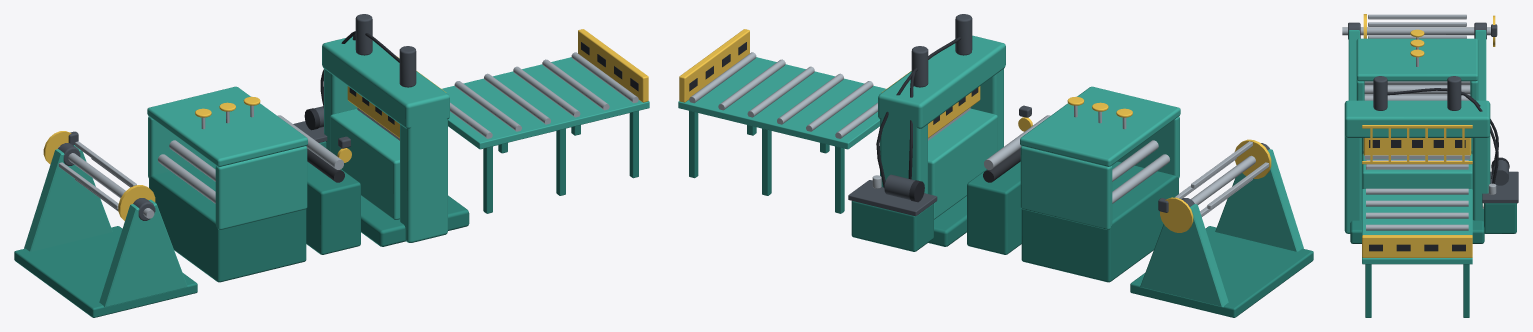
The model's file is guilhotina.glb.
3 renders of one model, left to right at view 1: azimuth 30°, elevation 25°; view 2: azimuth 150°, elevation 25°; view 3: azimuth 270°, elevation 25°, orthographic. The views are drawn at different scales.
Visible parts, largest first — view 1: base (×4), cavalete (×2), tampo, coluna (×2), lateral (×2), tampa, travessa, mesa_inferior, rolete (×5), pe (×3), batente, cilindro_hidraulico (×2) (+8 smaller); view 2: base (×4), cavalete (×2), tampa (×2), tampo, lateral (×2), travessa, mesa_inferior, coluna (×2), rolete (×5), tanque, pe (×3), batente (+11 smaller); view 3: tampa (×2), travessa, tampo, coluna (×2), rolete (×4), mesa_inferior, batente, regua (×3), rolo (×3), porta_lamina, cavalete (×2), eixo (+10 smaller).
Part boxes in pixels (<box>): base (×4): <box>14,161,469,317</box>; cavalete (×2): <box>24,145,187,307</box>; tampo: <box>442,57,649,149</box>; coluna (×2): <box>324,37,447,242</box>; lateral (×2): <box>148,116,307,229</box>; tampa: <box>147,86,307,166</box>; travessa: <box>322,36,449,128</box>; mesa_inferior: <box>330,108,399,219</box>; rolete (×5): <box>454,52,638,131</box>; pe (×3): <box>483,111,638,213</box>; batente: <box>578,29,648,102</box>; cilindro_hidraulico (×2): <box>355,14,416,87</box>; base (×4): <box>928,161,1313,317</box>; cavalete (×2): <box>1140,149,1303,307</box>; tampa (×2): <box>848,86,1180,216</box>; tampo: <box>678,57,885,149</box>; lateral (×2): <box>1020,116,1179,229</box>; travessa: <box>878,36,1005,128</box>; mesa_inferior: <box>928,108,997,219</box>; coluna (×2): <box>880,36,1003,193</box>; rolete (×5): <box>689,52,873,131</box>; tanque: <box>851,201,933,251</box>; pe (×3): <box>689,111,844,213</box>; batente: <box>679,29,749,102</box>; tampa (×2): <box>1356,38,1518,203</box>; travessa: <box>1344,100,1490,137</box>; tampo: <box>1362,189,1472,264</box>; coluna (×2): <box>1344,101,1490,233</box>; rolete (×4): <box>1366,188,1468,230</box>; mesa_inferior: <box>1362,153,1472,189</box>; batente: <box>1362,235,1472,257</box>; regua (×3): <box>1368,14,1466,38</box>; rolo (×3): <box>1364,81,1470,100</box>; porta_lamina: <box>1363,138,1471,155</box>; cavalete (×2): <box>1348,30,1486,100</box>; eixo: <box>1342,27,1490,35</box>.
Size of the model in its own units: 6.95 by 2.07 by 2.23.
